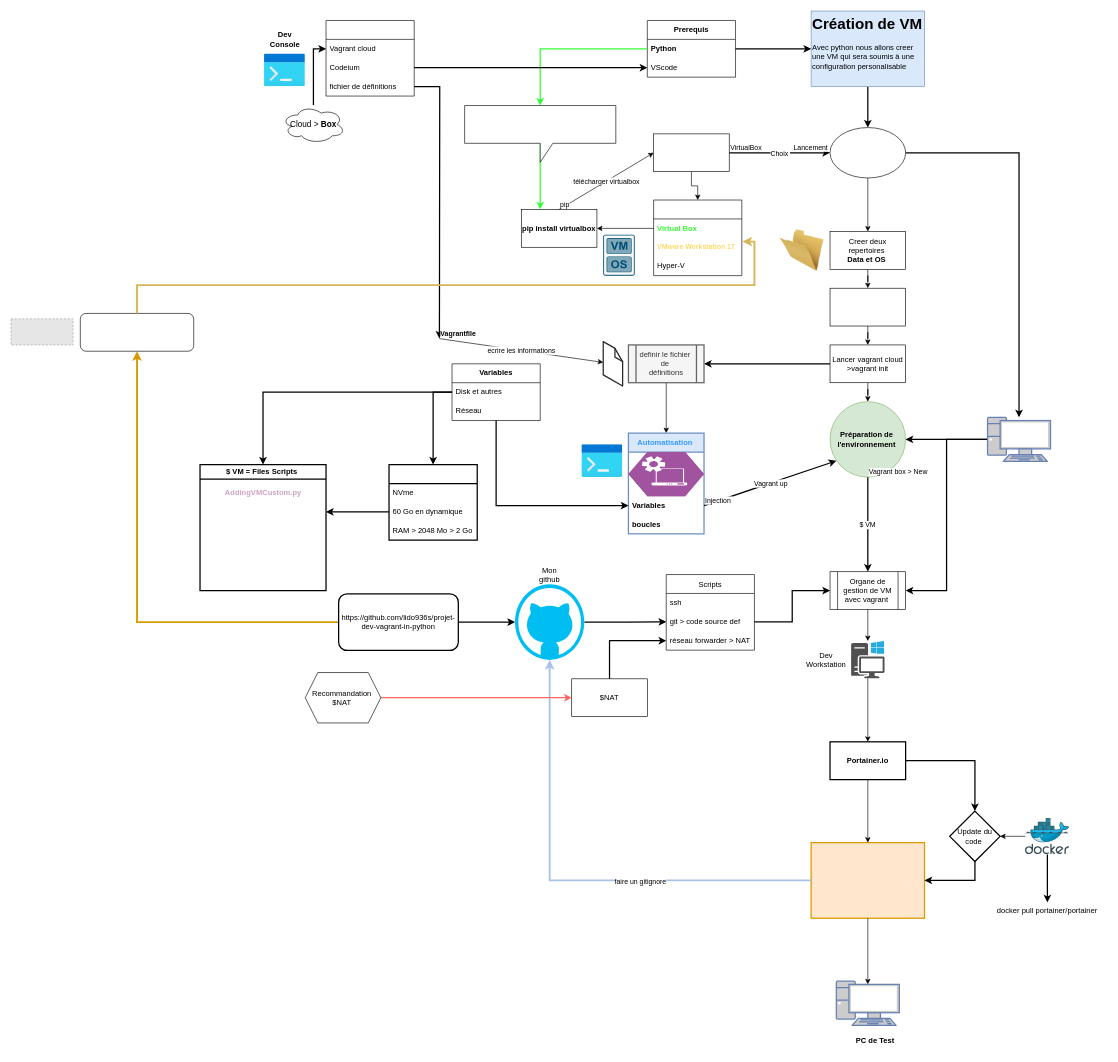
This 1118x1062 diagram has some shape labels left out. Grey dashed boxes stand in for pictures. The box of each missing label's shape, as (x1, y1, x2, y2) in pixels:
Ce rendre ensuite sur le répertoire OS: (829, 288, 906, 326)
choix de l'hyperviseur: (653, 133, 729, 172)
Debut du projet: (829, 127, 906, 178)
Disk et Mémoire: (388, 464, 478, 541)
Externe: (325, 20, 414, 96)
Fichier .ps1 InstallVMware Workstation 17.ps1: (80, 313, 194, 351)
https://pypi.org/project/virtualbox/#description: (464, 105, 616, 162)
Hyperviseur de type 2: (653, 199, 742, 276)
Release Faire : - Un readme du fonctionnement - schématiser les variables: (810, 842, 925, 919)
